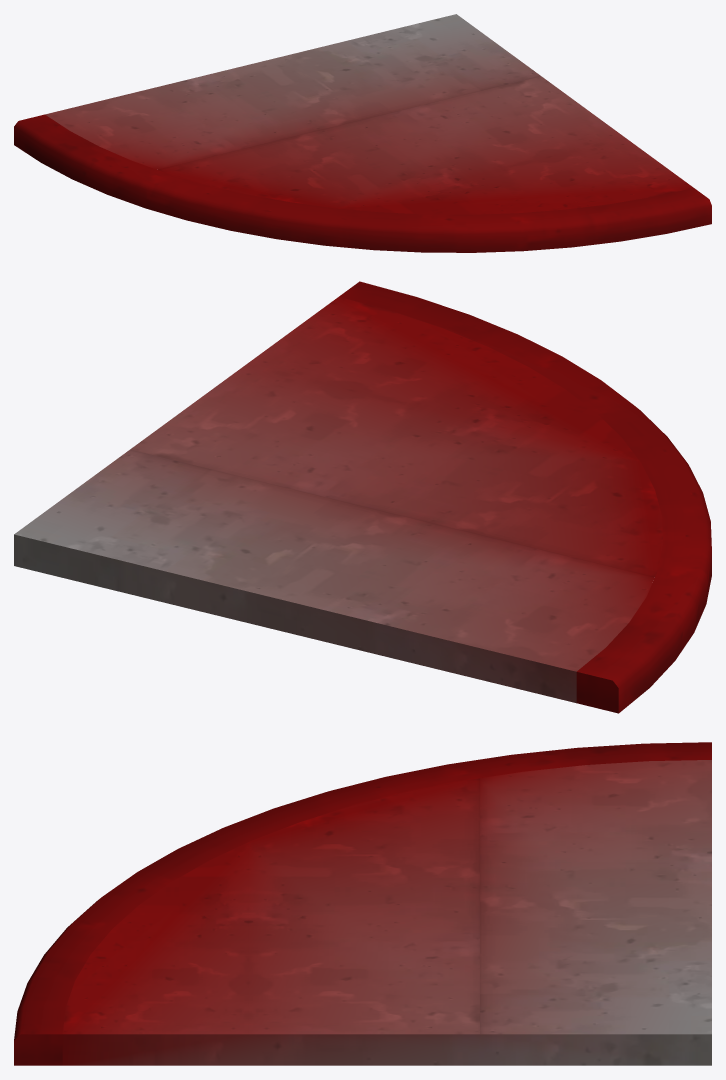
File: Sidewalk_Corner_Round_3m.glb
3 renders of one model, top to bottom at view 1: azimuth 30°, elevation 25°; view 2: azimuth 150°, elevation 25°; view 3: azimuth 270°, elevation 25°, orthographic. The views are drawn at different scales.
Visible parts, largest first — view 1: Sidewalk_Corner_Round_3m; view 2: Sidewalk_Corner_Round_3m; view 3: Sidewalk_Corner_Round_3m.
Part boxes in pixels (left/top/right/bottom): Sidewalk_Corner_Round_3m: left=14, top=14, right=711, bottom=252; Sidewalk_Corner_Round_3m: left=14, top=281, right=711, bottom=713; Sidewalk_Corner_Round_3m: left=14, top=742, right=711, bottom=1065.
Size of the model in its own units: 3.01 by 0.1499 by 3.01.
Materials: 1 (1 with a texture image).
